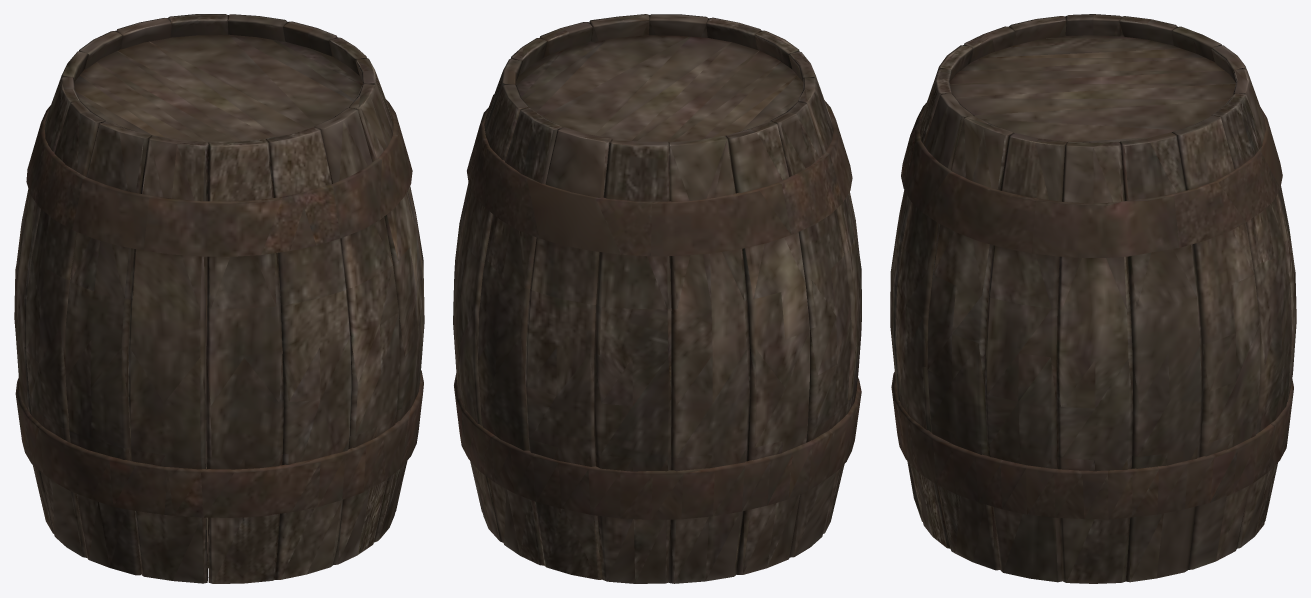
Rendered from d_barrel_small.glb.
3 views of the same model, side by side, from view 1: azimuth 30°, elevation 25°; view 2: azimuth 150°, elevation 25°; view 3: azimuth 270°, elevation 25° (orthographic).
Parts seen in each view (by area): view 1: d_barrel_small; view 2: d_barrel_small; view 3: d_barrel_small.
Part boxes in pixels (bbox=[...]): d_barrel_small: bbox=[14, 14, 424, 583]; d_barrel_small: bbox=[453, 14, 861, 583]; d_barrel_small: bbox=[890, 14, 1296, 583].
Bounding box in the file's own units: 0.8912 × 1.02 × 0.8768.
Materials: 1 (1 with a texture image).
